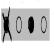correct: (28, 12, 36, 38)
no answer: (16, 13, 22, 37)
not correct: (2, 6, 13, 45)
